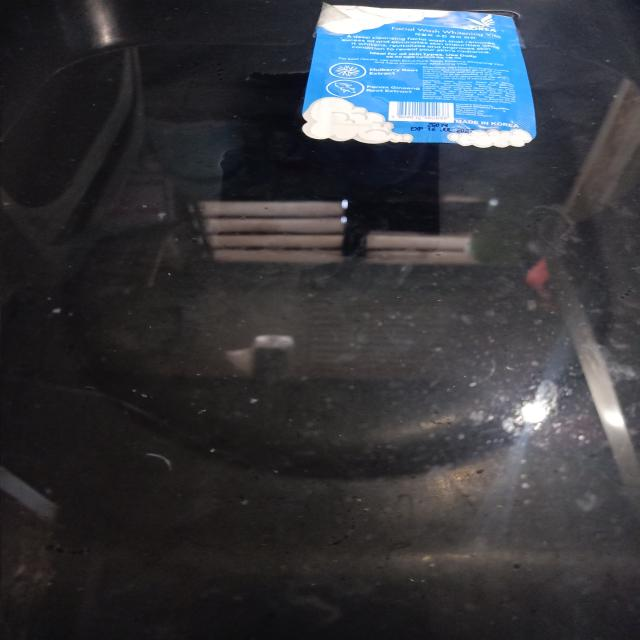Plastic Wrapper: (303, 3, 535, 147)
